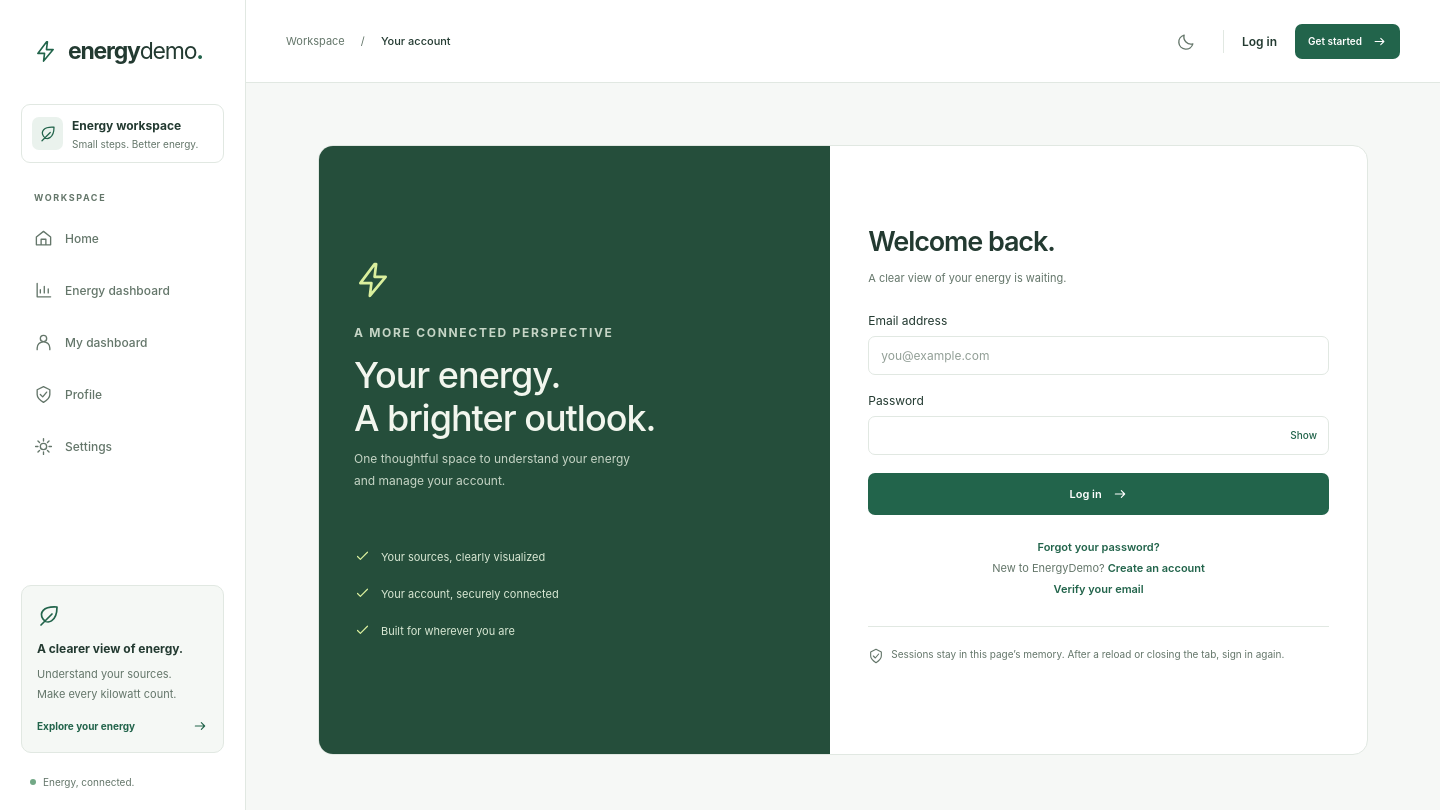
Test: Cognito forms › routes unconfirmed sign-ins to verification and handles invalid codes
The width and height of the screenshot is (1440, 810).
Step 1. Type "reader@example.invalid" into the field labelled "Email address" → (1099, 356), box [868,336,1329,375]
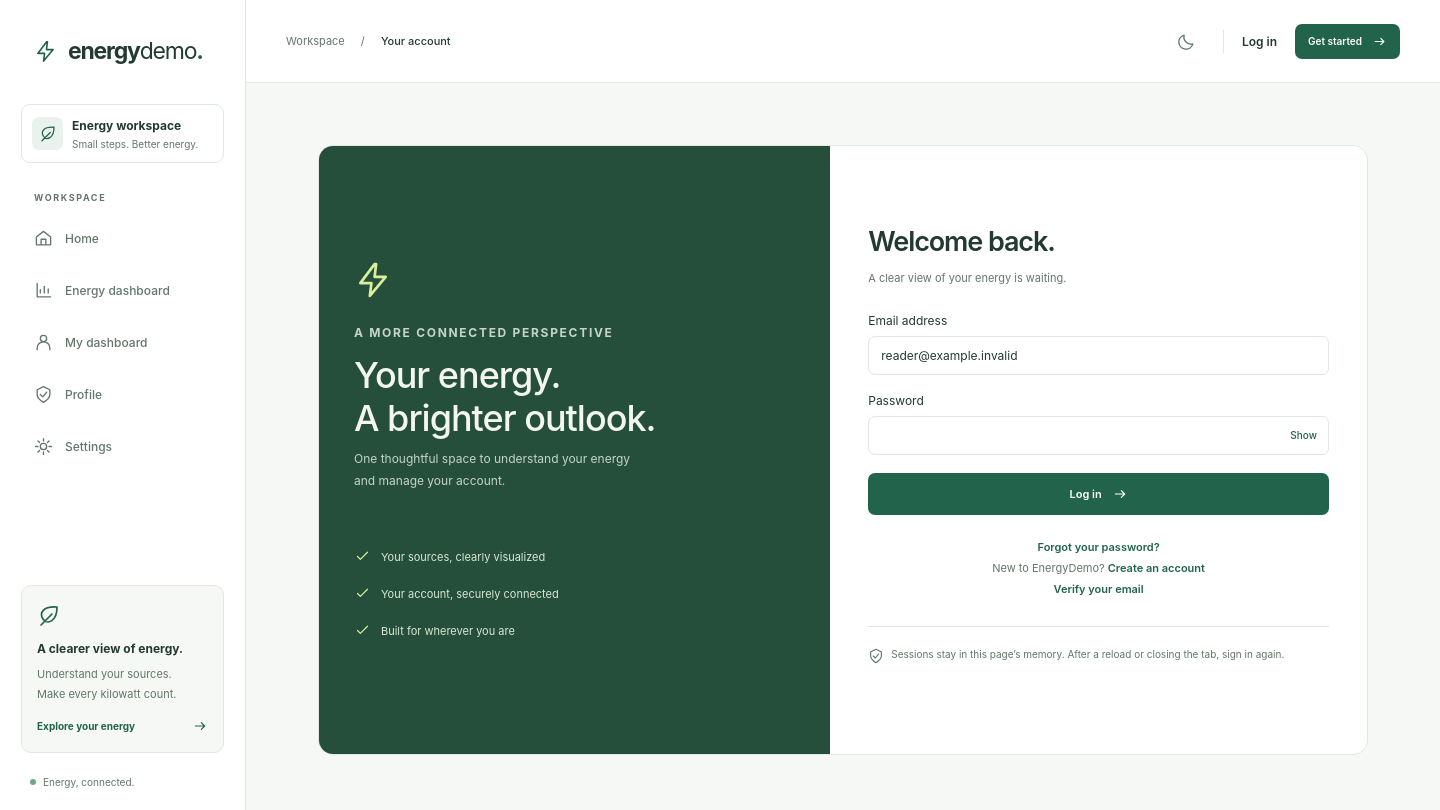
Step 2. Type "Valid-Test-1234" into the password field labelled "Password" → (1099, 436), box [868,416,1329,455]
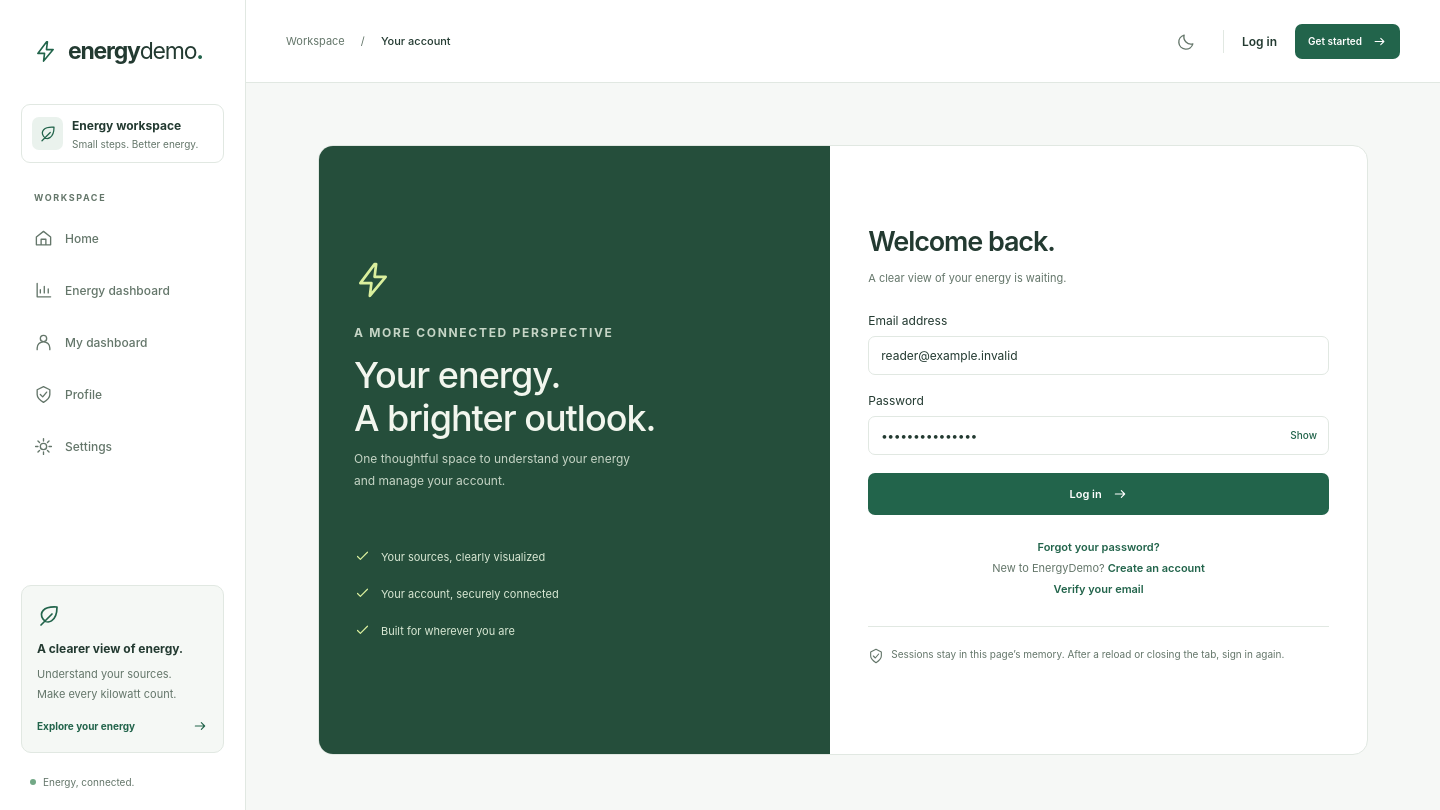
Step 3. Click the button "Log in" → (1099, 494), box [868,473,1329,515]
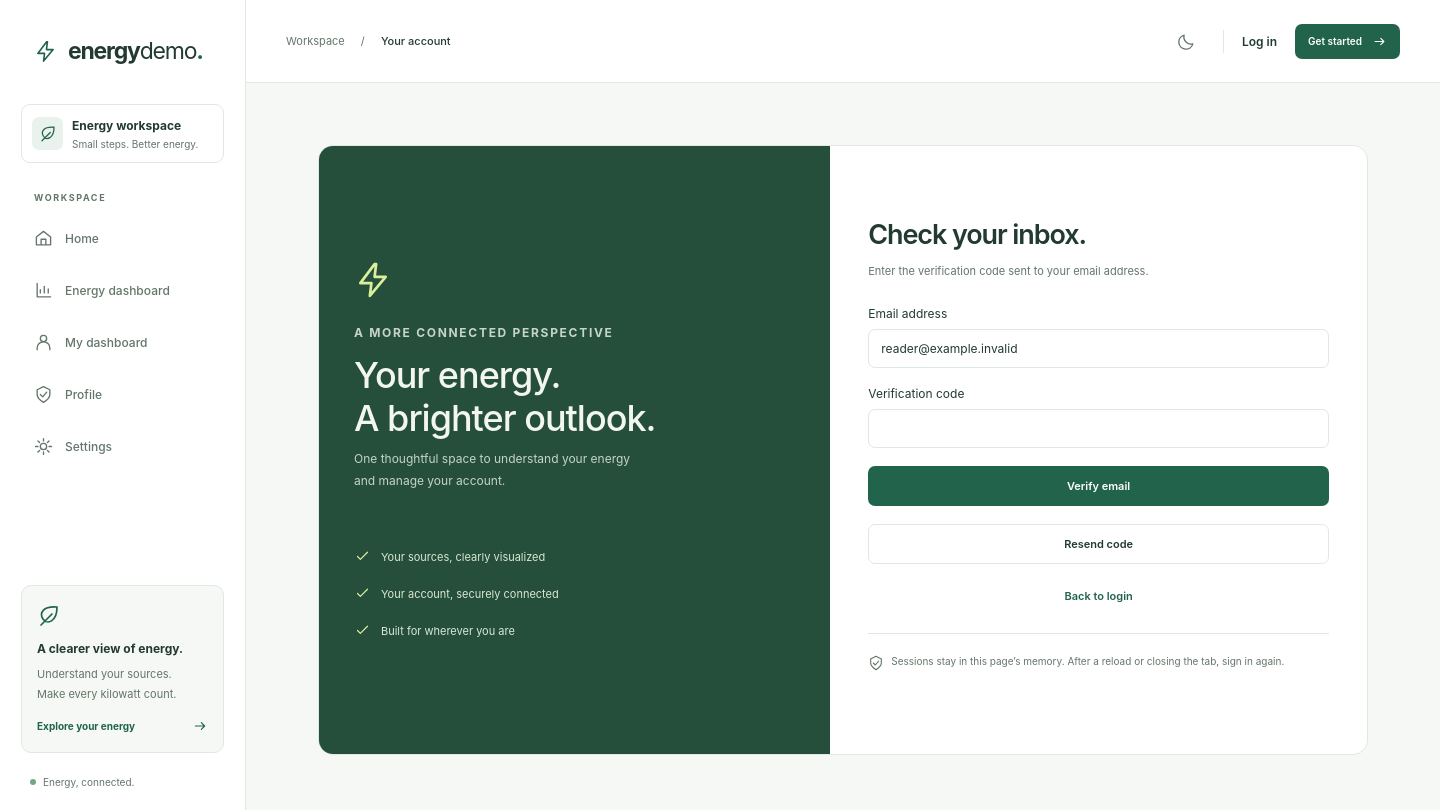
Check: the heading "Check your inbox." is shown, box [868,218,1086,251]
Check: the field labelled "Email address" holds "reader@example.invalid", box [868,329,1329,368]
Step 4. Type "000000" into the field labelled "Verification code" → (1099, 428), box [868,409,1329,448]
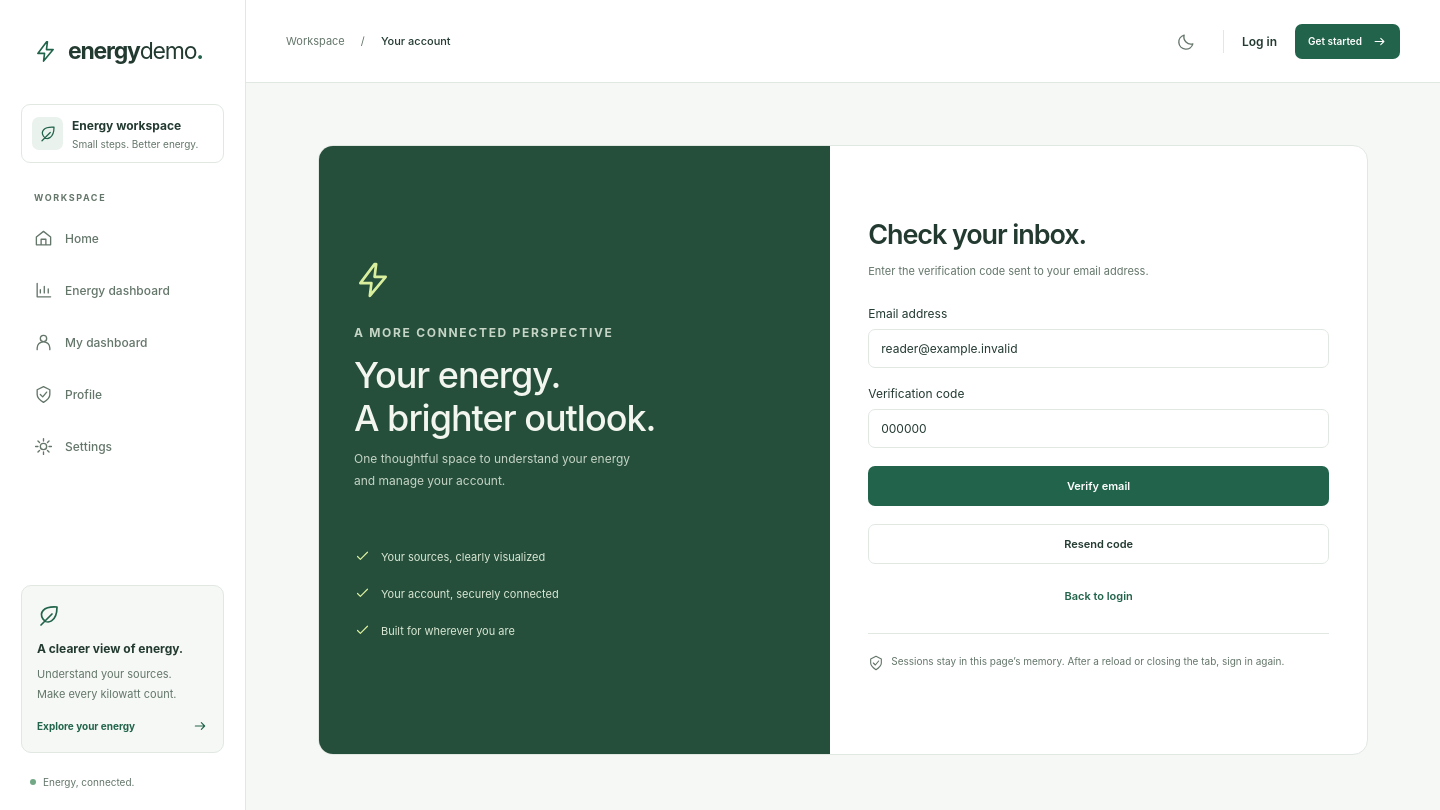
Step 5. Click the button "Verify email" → (1099, 486), box [868,466,1329,506]
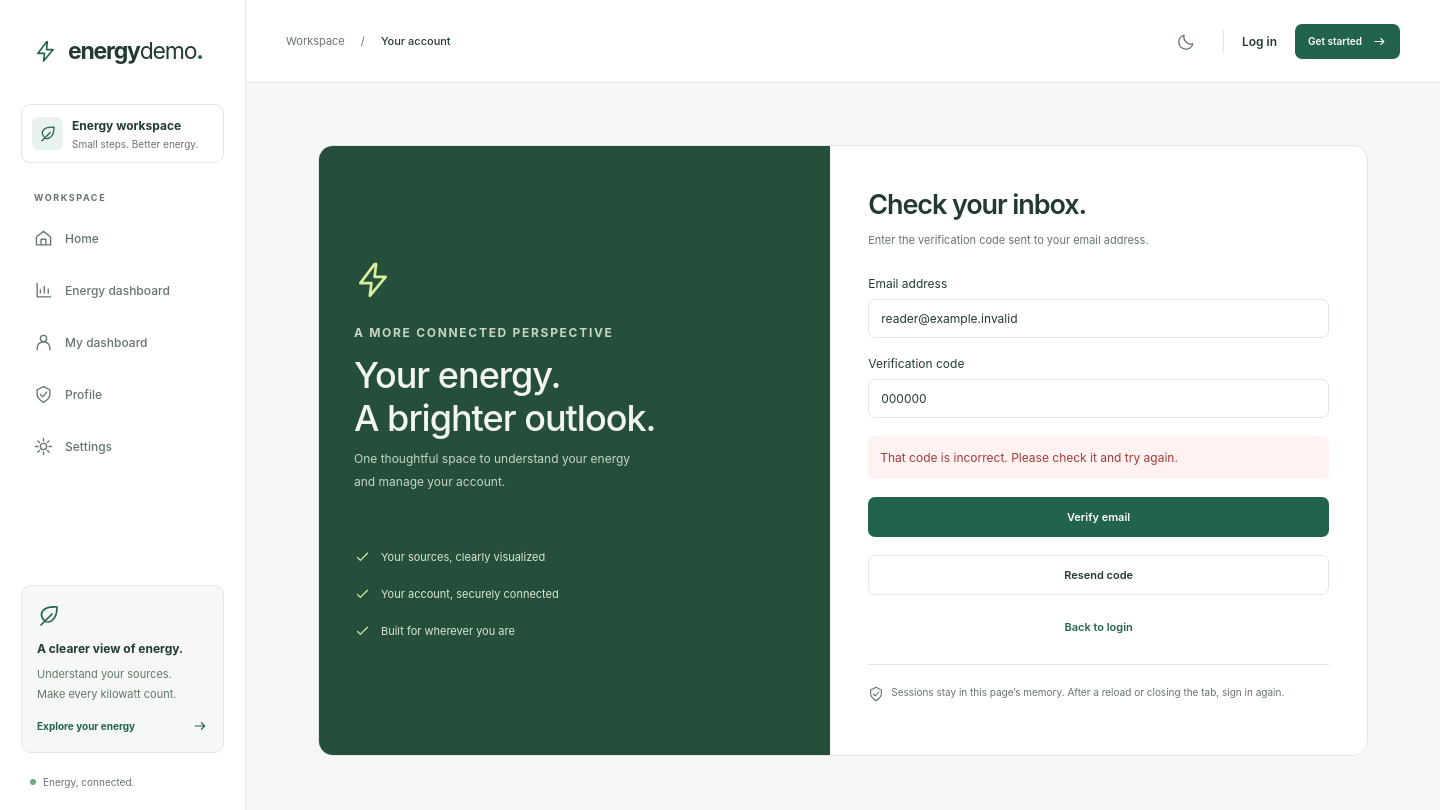
Check: the heading "Check your inbox." is shown, box [868,188,1086,221]
Check: the message shows "That code is incorrect", box [880,450,1178,465]
